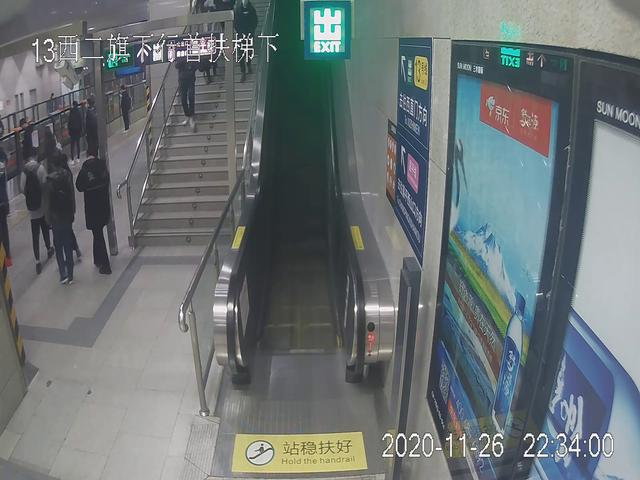person: (76, 149, 116, 275), (41, 152, 79, 279), (24, 144, 55, 273), (163, 39, 205, 128), (117, 83, 139, 134)
